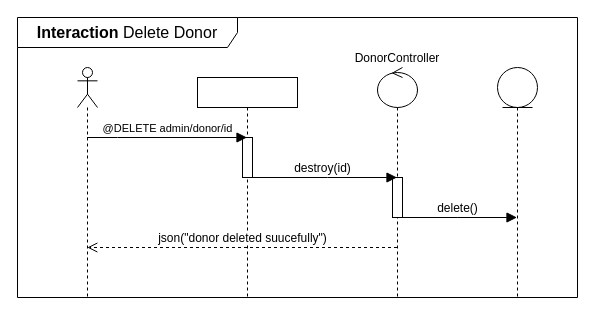
Image size: 595x315. Some labels were removed from this diagram. Here are the shapes that lost their labels. From the top down, the box of each, then its label:
(196, 76, 298, 298): :Router
(496, 66, 538, 298): Donor
